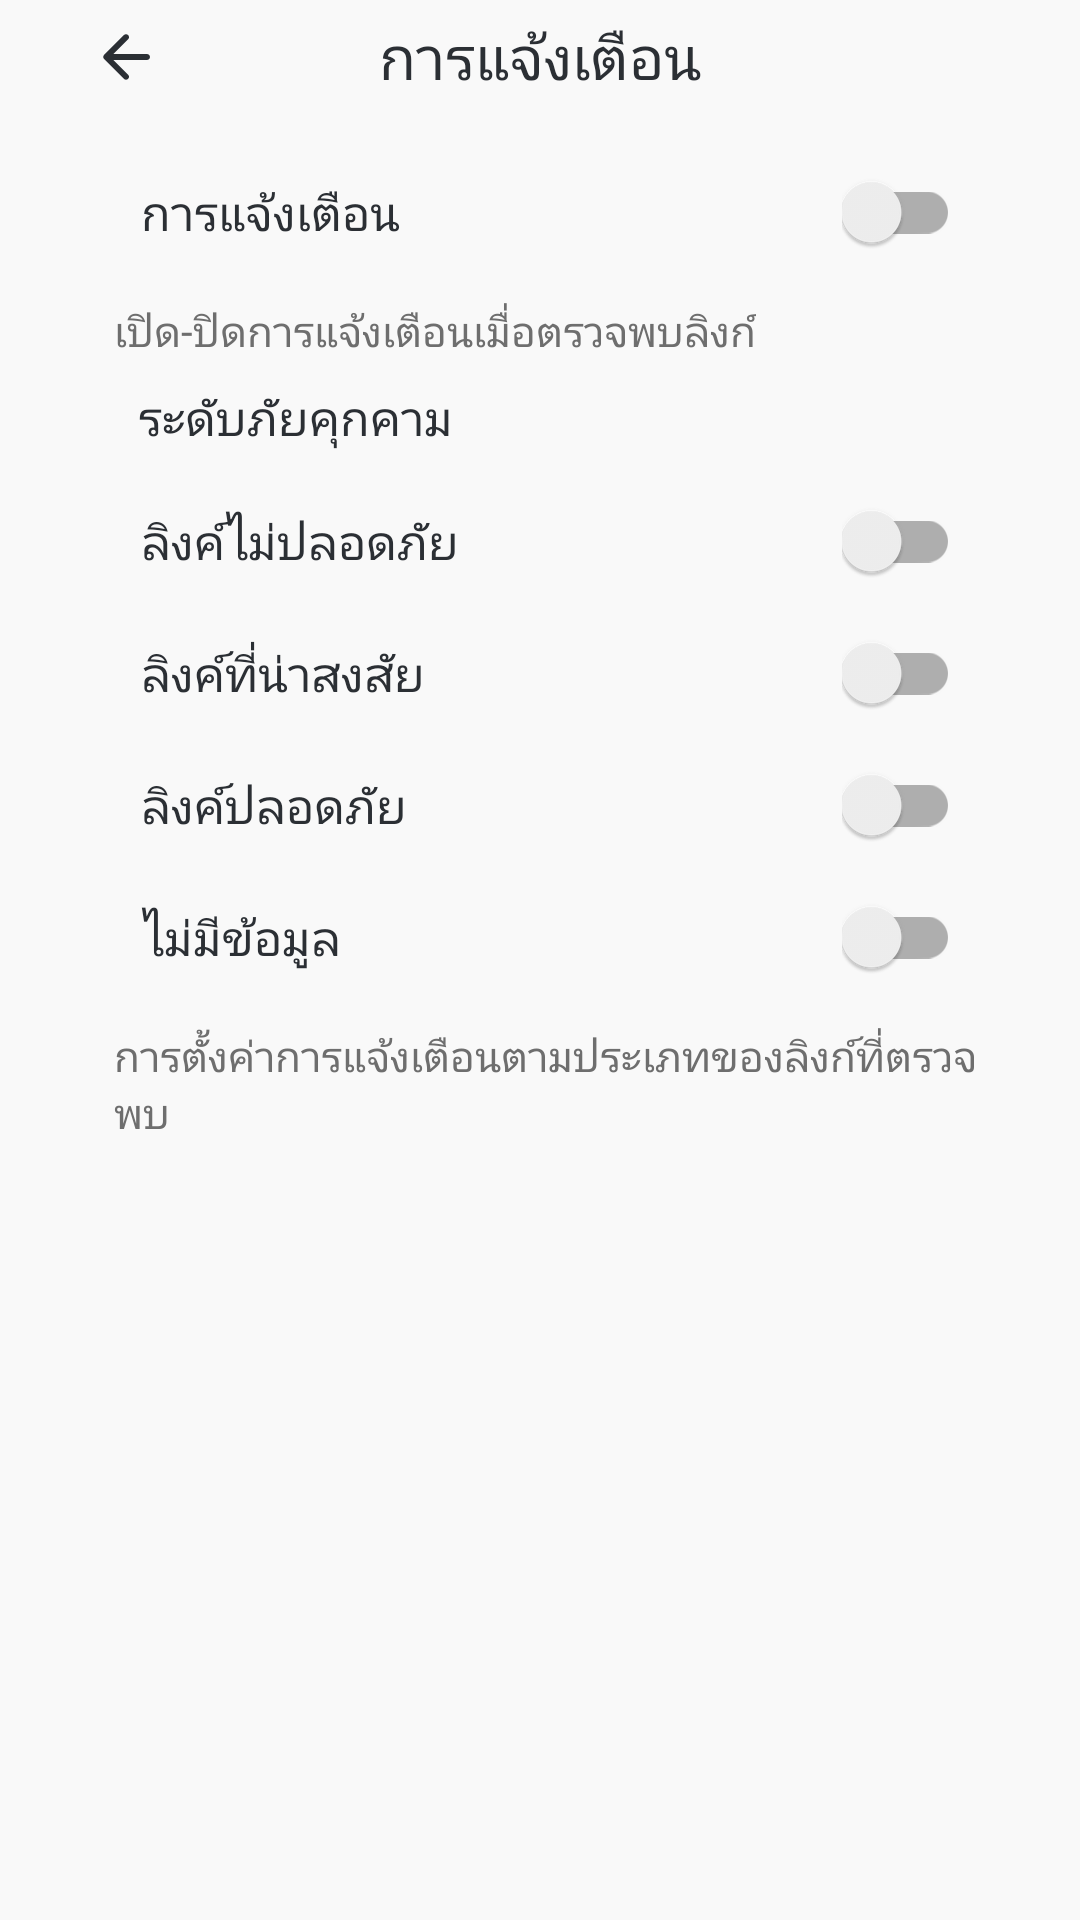

Screen size 1080w x 1920h. Icon name, then its center in pixels as point (x, y):
ย้อนกลับ: point (126, 57)
